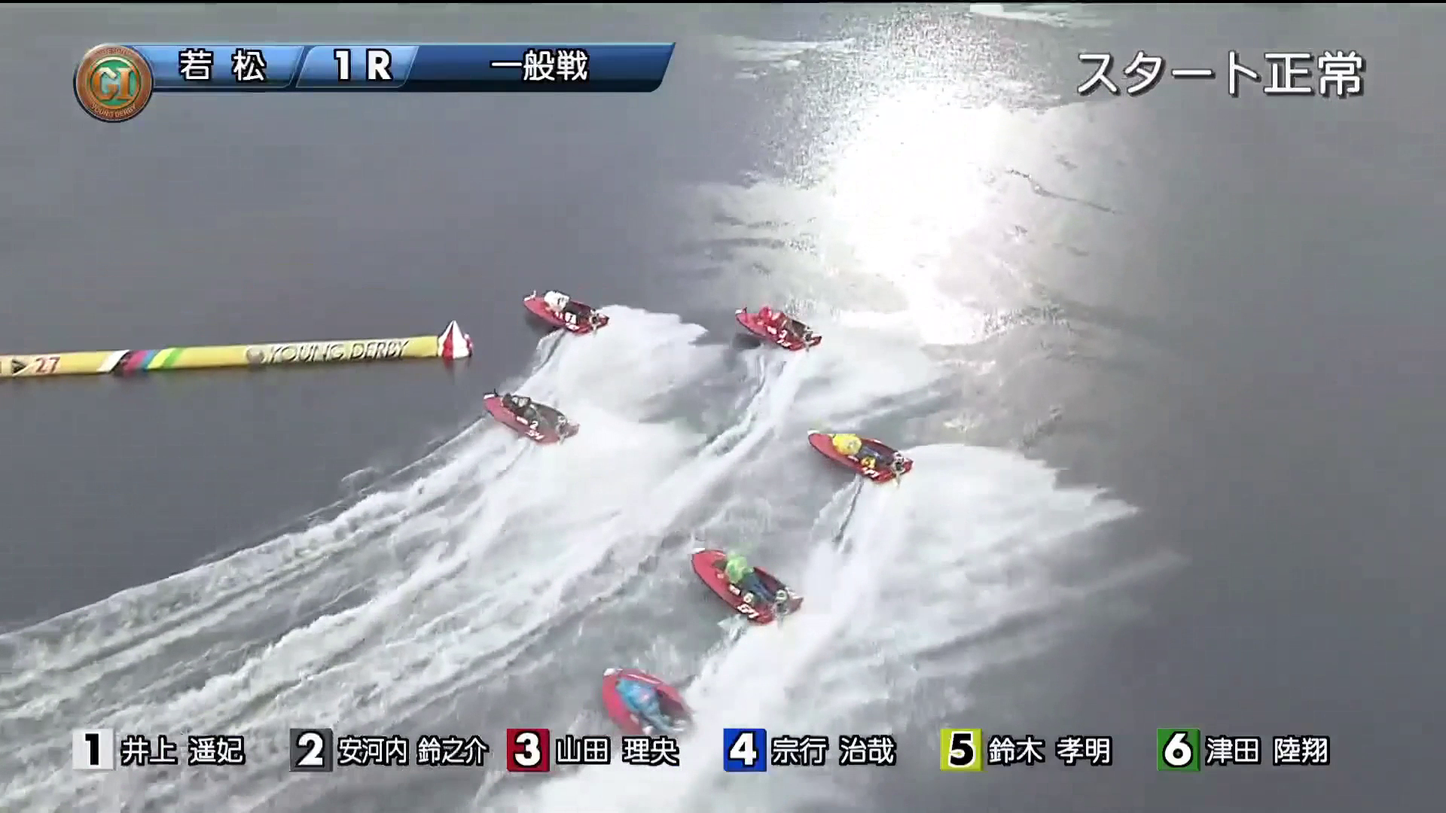１号艇: (508, 284, 579, 338)
２号艇: (453, 376, 581, 436)
３号艇: (730, 291, 828, 337)
４号艇: (693, 535, 827, 600)
５号艇: (592, 670, 716, 725)
６号艇: (807, 409, 906, 477)
